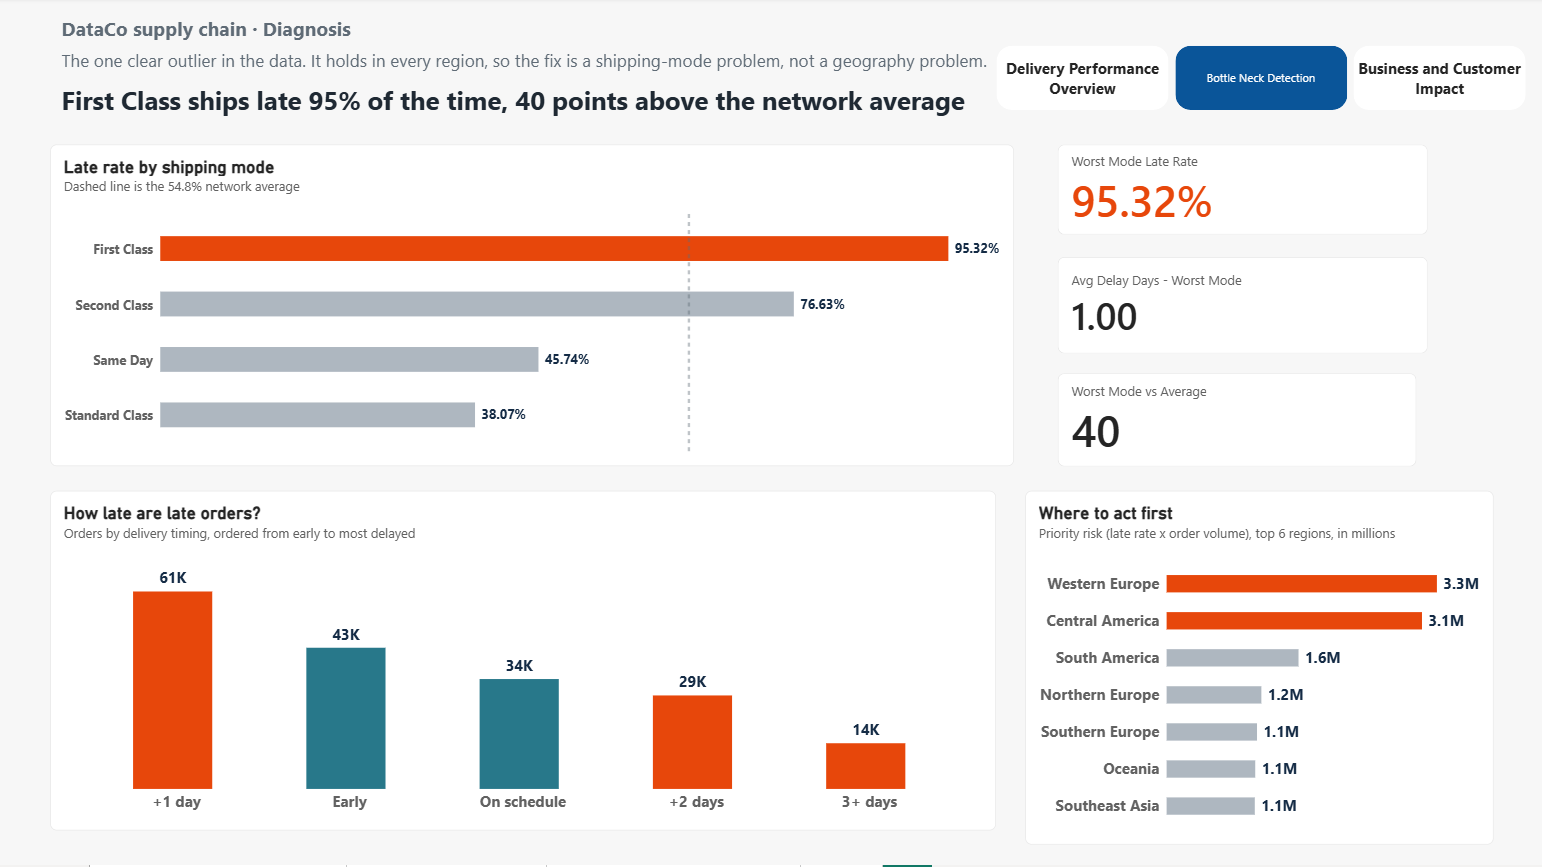

Layout of this report page (visuals, bound fields, positions):
{"tool":"powerbi","page":{"name":"Bottle Neck Detection","canvas":[1920,1080],"ordinal":1},"visuals":[{"type":"clusteredBarChart","title":"Where to act first","fields":{"Category":["df.order_region"],"Y":["Sum(df.priority_risk)"]},"box":[1276,614,582,440],"z":0},{"type":"columnChart","title":"How late are late orders?","fields":{"Category":["df.delay_band"],"Y":["CountNonNull(df.order_id)"]},"box":[64,614,1176,422],"z":1000},{"type":"cardVisual","fields":{"Data":["df.Worst Mode Late Rate"]},"box":[1316,184,460,112],"z":2000},{"type":"cardVisual","fields":{"Data":["df.Avg Delay Days - Worst Mode"]},"box":[1316,324,460,120],"z":3000},{"type":"cardVisual","title":" 1.7x the average","fields":{"Data":["df.Worst Mode vs Average"]},"box":[1316,468,446,116],"z":4000},{"type":"clusteredBarChart","title":"Late rate by shipping mode","fields":{"Category":["df.shipping_mode"],"Y":["df.Late Delivery Rate"]},"box":[64,184,1198,400],"z":5000},{"type":"textbox","box":[78.3,23.3,715,40],"z":6000},{"type":"textbox","box":[78.3,63.3,1238.3,33.3],"z":7000},{"type":"textbox","box":[78.3,105,1141.7,78.3],"z":8000},{"type":"pageNavigator","box":[1240.1,60.2,660.2,80.2],"z":8001}]}

Visuals, with their boxes in screenshot pixels (x1, y1, x2, y2), scaled from the page's 1920x1080 canvas onto the 1542x867 screenshot:
"Where to act first" clusteredBarChart: bbox=(1025, 493, 1492, 846)
"How late are late orders?" columnChart: bbox=(51, 493, 996, 832)
cardVisual - df.Worst Mode Late Rate: bbox=(1057, 148, 1426, 238)
cardVisual - df.Avg Delay Days - Worst Mode: bbox=(1057, 260, 1426, 356)
" 1.7x the average" cardVisual: bbox=(1057, 376, 1415, 469)
"Late rate by shipping mode" clusteredBarChart: bbox=(51, 148, 1014, 469)
textbox: bbox=(63, 19, 637, 51)
textbox: bbox=(63, 51, 1057, 78)
textbox: bbox=(63, 84, 980, 147)
pageNavigator: bbox=(996, 48, 1526, 113)
